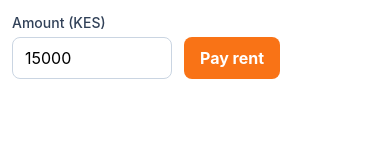
Test: PayRentForm › shows an error when the amount is more than the balance
The image size is (391, 160).
Replace the text in the number field labelled "Amount (KES)" with "99999": (92, 58) x1=12 y1=37 x2=172 y2=79
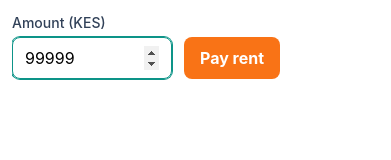
Click the button "Pay rent": (232, 58) x1=184 y1=37 x2=280 y2=79
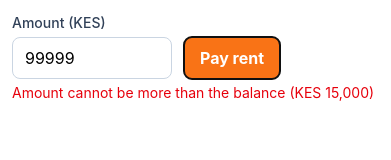
Result: the text "Amount cannot be more than the balance (KES 15,000)" is shown at x1=12 y1=84 x2=374 y2=101
